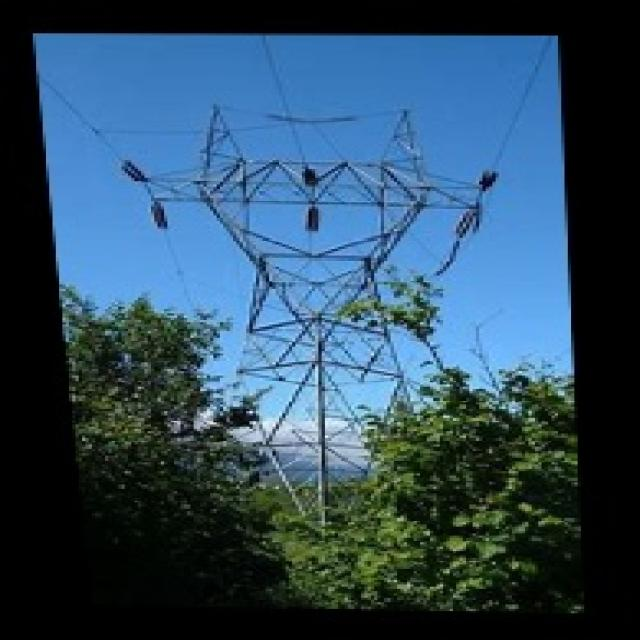utility poles: (326, 264, 524, 458), (148, 305, 302, 481)
